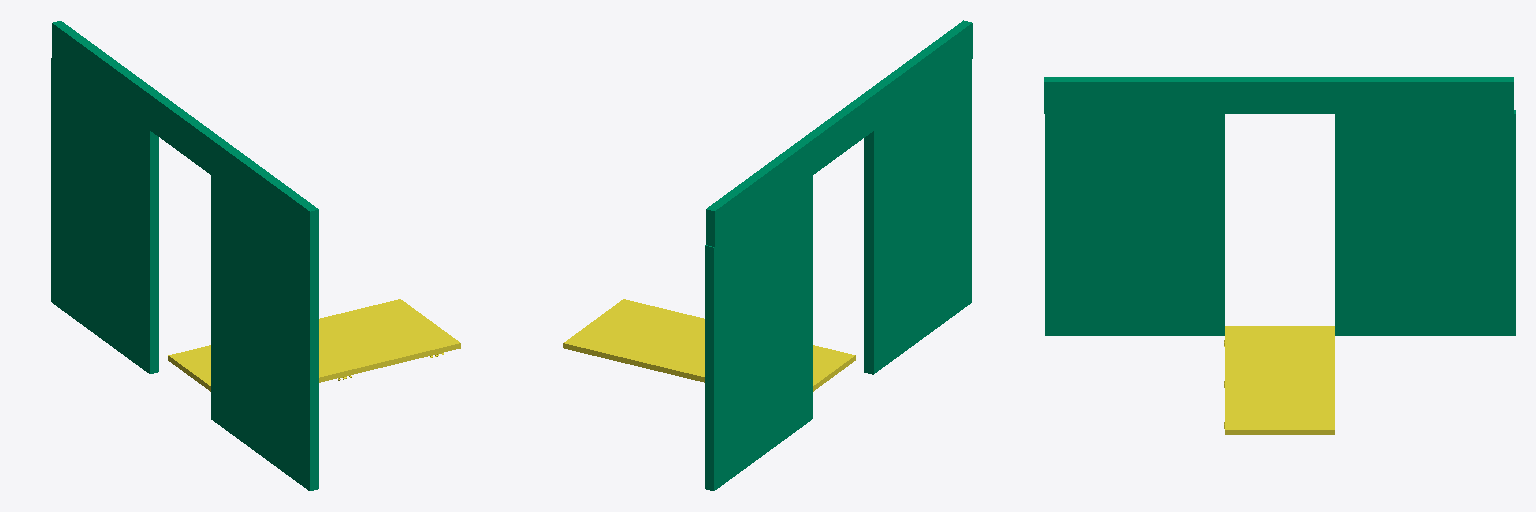
robot.urdf — door_test:
<robot name = 'door_test' xmlns:xacro="http://ros.org/wiki/xacro">
    <!-- <link name = 'world'/> -->
    
    <!-- <joint name = 'world2base' type = 'fixed'>
        <parent link = 'world'/>
        <child link = 'base_link'/>
    </joint> -->

    <link name = 'base_link'/>
    <joint name = 'base_to_door_fake_link' type = 'fixed'>
        <parent link = 'base_link'/>
        <origin xyz = '0.5 0 0.0' rpy = '0 0 3.14159'/>
        <child link = 'door_fake_link'/>
    </joint>
    <link name = 'door_fake_link'/>

    <joint name = 'base_joint' type = 'fixed'>
        <parent link = 'base_link'/>
        <origin xyz = '0 -0.5 0.0' rpy='0 0 0'/>
        <!-- if move y : the door will slide -->
        <child link = 'door_wall'/>
    </joint>

    <link name = 'door_wall'>
        <visual>
            <geometry>
                <box size='0.08 1.5 2.04'/>
            </geometry>
            <origin xyz = '-0.04 -0.68 1.02' rpy = '0 0 0'/>
        </visual>
        <visual>
            <geometry>
                <box size='0.08 1.5 2.04'/>
            </geometry>
            <origin xyz = '-0.04 1.74 1.02' rpy = '0 0 0'/>
        </visual>
        <visual>
            <geometry>
                <box size='0.08 3.91 0.3'/>
            </geometry>
            <origin xyz = '-0.04 0.522 2.19' rpy = '0 0 0'/>
        </visual>

        <collision name="side_1_:hinge_side">
            <geometry>
                <box size='0.08 1.5 2.04'/>
            </geometry>
            <origin xyz = '-0.04 -0.68 1.02' rpy = '0 0 0'/>
        </collision>
        <collision name="side_2">
            <geometry>
                <box size = '0.05029 0.06858 2.10820'/>
            </geometry>
            <origin xyz="-0.02 1.02 1.05" rpy="0 0 0"/>
        </collision>
        <collision>
            <geometry>
                <box size='0.08 1.5 2.04'/>
            </geometry>
            <origin xyz = '-0.04 1.78 1.02' rpy = '0 0 0'/>
        </collision>
        <collision name="top">
            <geometry>
                <box size='0.08 3.91 0.3'/>
            </geometry>
            <origin xyz = '-0.04 0.522 2.19' rpy = '0 0 0'/>
        </collision>
        <inertial>
            <origin xyz="0 0 0" rpy="0 0 0"/>
            <mass value="10000.0"/>
            <inertia ixx="0.0" ixy="0.0" ixz="0.0" iyy="0.0" iyz="0.0" izz="0.0"/>
        </inertial>
    </link>

    <joint name = 'door_hinge' type = 'revolute'>
        <axis xyz = '0 0 -1' rpy = '0 0 0'/>
        <origin xyz = '0.025 0.06858 0' rpy='0 3.14159 0'/>
        <limit lower = '0' upper = '1.57' effort='100' velocity="100.00"/>
        <dynamics damping="10.0" friction="0.0"/>
        <parent link = 'door_wall'/>
        <child link = 'door'/>
    </joint>

    <link name = 'door'>
        <visual>
            <geometry>
                <mesh filename = './meshes/door.dae'/>
            </geometry>
            <origin xyz = '-0.05 0 0' rpy = '-1.57 0 1.57'/>
            <color rgba = '0.5 0.5 0.5 1.0'/>
        </visual>
        <collision name="door_collision">
            <geometry>
                <mesh filename = './meshes/door.dae'/>
            </geometry>
            <origin xyz = '-0.05 0 0' rpy = '-1.57 0 1.57'/>
        </collision>
        <inertial>
            <origin xyz="0.4569 0.0349 1.016" rpy="0 0 0"/>
            <mass value="41.3256"/>
            <inertia ixx="14.2053" ixy="0.0004" ixz="0.0000" iyy="17.1997" iyz="0.0000" izz="3.0298"/>
        </inertial>
    </link>

    <joint name = 'door_handle' type = 'revolute'>
        <axis xyz = '-1 0 0' rpy = '0 0 0 '/>
        <parent link = 'door'/>
        <origin xyz = '0.035 0.75 -1.0'/>
        <limit lower = '0' upper = '0.5236' effort='100' velocity="1000.00"/>
        <dynamics damping="0.0" friction="0.0"/>
        <child link = 'door_handles'/>
    </joint>

    <link name = 'door_handles'>
        <visual>
            <geometry>
                <mesh filename = './meshes/shirokuma_scaled.stl'/> 
            </geometry>
            <origin xyz = '-0.0225 0 0' rpy = '0 0 3.14'/>
            <color rgba = '0.55 0.5 0.5 1.0'/>
        </visual>
        <visual>
            <geometry>
                <mesh filename = './meshes/shirokuma_scaled.stl'/>
            </geometry>
            <origin xyz = '0.055 0 0' rpy = '3.14 0 0'/>
             <color rgba = '0.5 0.5 0.5 1.0'/>
        </visual>
        <collision>
            <geometry>
                <mesh filename='./meshes/shirokuma_scaled_collision.stl'/>
            </geometry>
            <origin xyz = '-0.0225 0 0' rpy = '0 0 3.14'/>
        </collision>
        <collision>
            <geometry>
                <mesh filename="./meshes/shirokuma_scaled_collision.stl"/>
            </geometry>
            <origin xyz = '0.055 0 0' rpy = '3.14 0 0'/>
        </collision>
        <inertial>
            <origin xyz="0.0 0.0 0.0" rpy="3.14159 0 1.57"/>
            <mass value="1.0"/>
        </inertial>
    </link>
    <joint name = 'handle2latch' type = 'fixed'>
        <parent link = 'door_handles'/>
        <child link = 'door_latch'/>
    </joint>

    <link name='door_latch'>
        <collision>
            <geometry>
                <box size='0.001 0.5 0.01'/>
            </geometry>
            <origin xyz = '-0.0178 0.2 -0.9' rpy = '0 0 0'/>
        </collision>
    </link>
    <!-- <gazebo reference="world">
        <material>Gazebo/Red</material>
    </gazebo> -->

</robot>

--- What the picture shows (computed from the rendered views, not written in the file) ---
Views: 3 orthographic renders of the robot side by side, from view 1: azimuth 30°, elevation 25°; view 2: azimuth 150°, elevation 25°; view 3: azimuth 270°, elevation 25°.
Robot: door_test — 6 links, 5 joints (2 revolute, 3 fixed); root link base_link; default pose: all joints at 0.
Links seen in each view (by area): view 1: door_wall, door; view 2: door_wall, door; view 3: door_wall, door.
Link boxes in pixels (left/top/right/bottom): door_wall: left=51, top=21, right=318, bottom=490; door: left=168, top=299, right=460, bottom=391; door_wall: left=705, top=20, right=972, bottom=490; door: left=563, top=299, right=855, bottom=391; door_wall: left=1044, top=77, right=1515, bottom=335; door: left=1224, top=326, right=1334, bottom=434.
Bounding box of the posed robot: 2.19 × 3.92 × 2.34 m (x, y, z).
Meshes: 2 distinct files referenced, 1 mesh visuals loaded (1 Collada DAE); not drawn: 2 (reference not matched to a file when rendering).